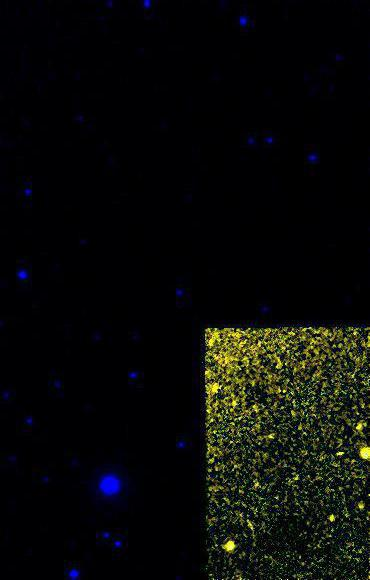star: (323, 439, 353, 469)
